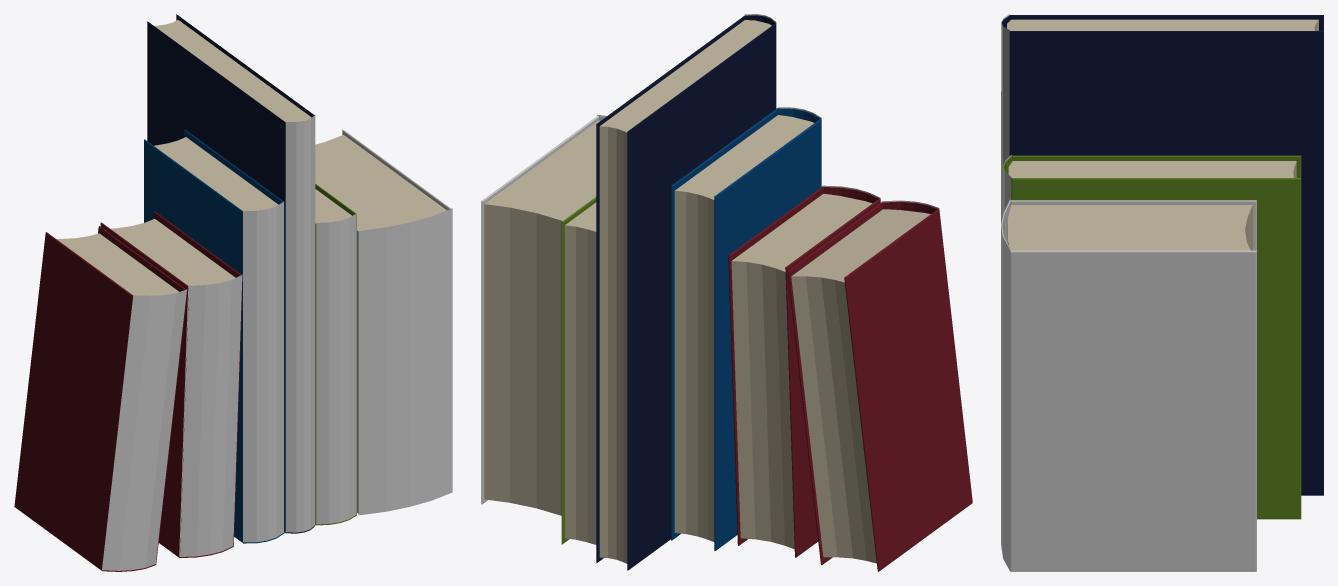
File: livres.obj
3 renders of one model, left to right at view 1: azimuth 30°, elevation 25°; view 2: azimuth 150°, elevation 25°; view 3: azimuth 270°, elevation 25°, orthographic. The views are drawn at different scales.
Visible parts, largest first — view 1: titles_tranche_4.001, face_avant_5, face_avant_2, face_avant_1, pages_4, face_avant, pages, pages_2, pages_1, pages_5, face_arriere_1, face_arriere_5 (+6 smaller); view 2: face_avant_5, face_avant_2, pages_4, pages, pages_5, pages_1, pages_2, face_avant_1, pages_3, face_avant, face_arriere_2, face_arriere_1 (+4 smaller); view 3: face_arriere_4, face_arriere_2, face_arriere_3, pages_4, pages_3, titles_tranche_4.001, pages_2, face_avant_3, face_avant_2, face_avant_4.
Boxes of the visible parts, x1,y1,x2,y2 form: titles_tranche_4.001: (102,115,452,570); face_avant_5: (14,232,133,570); face_avant_2: (147,21,286,532); face_avant_1: (144,139,242,542); pages_4: (315,135,446,230); face_avant: (100,222,188,557); pages: (110,219,235,285); pages_2: (154,20,311,121); pages_1: (154,137,278,211); pages_5: (56,233,178,295); face_arriere_1: (184,129,284,533); face_arriere_5: (98,226,187,564); face_avant_5: (844,208,972,571); face_avant_2: (627,23,776,570); pages_4: (484,120,600,515); pages: (731,193,872,549); pages_5: (791,209,930,563); pages_1: (674,115,814,541); pages_2: (599,20,771,563); face_avant_1: (714,119,821,550); pages_3: (565,202,596,544); face_avant: (785,198,880,557); face_arriere_2: (596,15,745,562); face_arriere_1: (671,108,778,540); face_arriere_4: (1010,250,1256,571); face_arriere_2: (1009,31,1323,495); face_arriere_3: (1011,178,1301,519); pages_4: (1007,205,1252,250); pages_3: (1008,161,1296,177); titles_tranche_4.001: (1001,14,1011,570); pages_2: (1007,19,1318,30); face_avant_3: (1011,155,1301,177); face_avant_2: (1010,15,1323,30); face_avant_4: (1010,200,1256,250).
Size of the model in its own units: 23.99 by 26.95 by 16.88.
